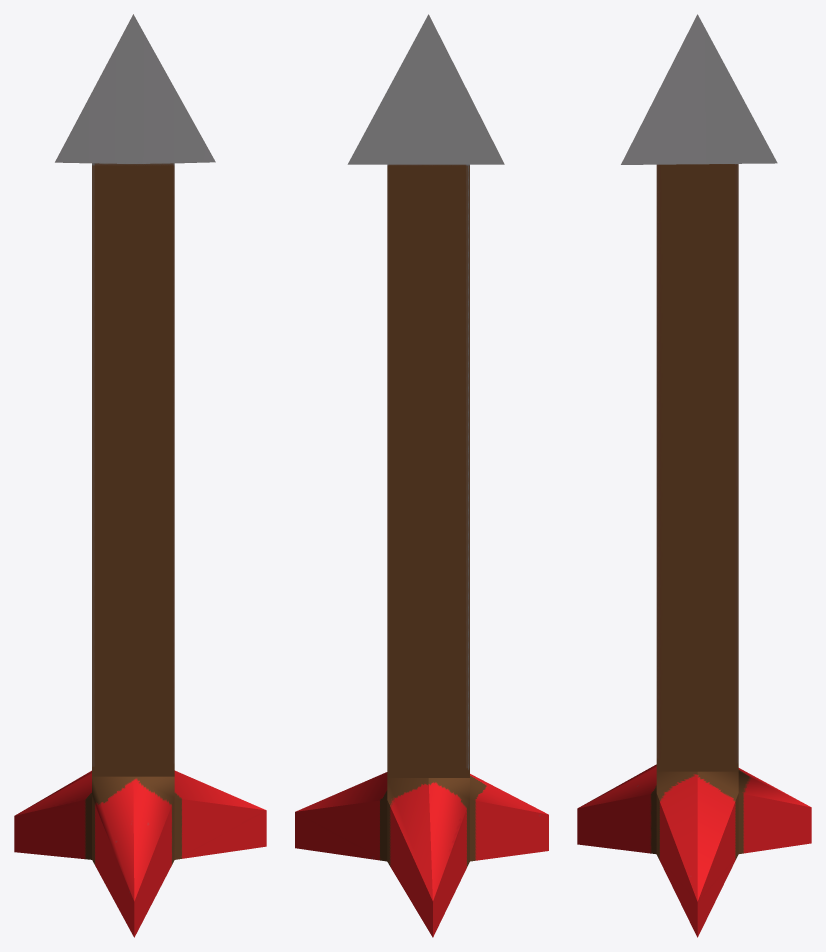
File: BaseArrowBad.fbx
The picture shows the model from 3 angles, left to right: view 1: azimuth 30°, elevation 25°; view 2: azimuth 150°, elevation 25°; view 3: azimuth 270°, elevation 25°; orthographic projection.
Visible parts, largest first — view 1: node_id3; view 2: node_id3; view 3: node_id3.
Part boxes in pixels (x1,y1,x2,y2): node_id3: (14,14,266,937); node_id3: (295,14,548,937); node_id3: (577,14,811,937).
Bounding box in the file's own units: 0.1306 × 0.512 × 0.1265.
1 material, 1 textured.
